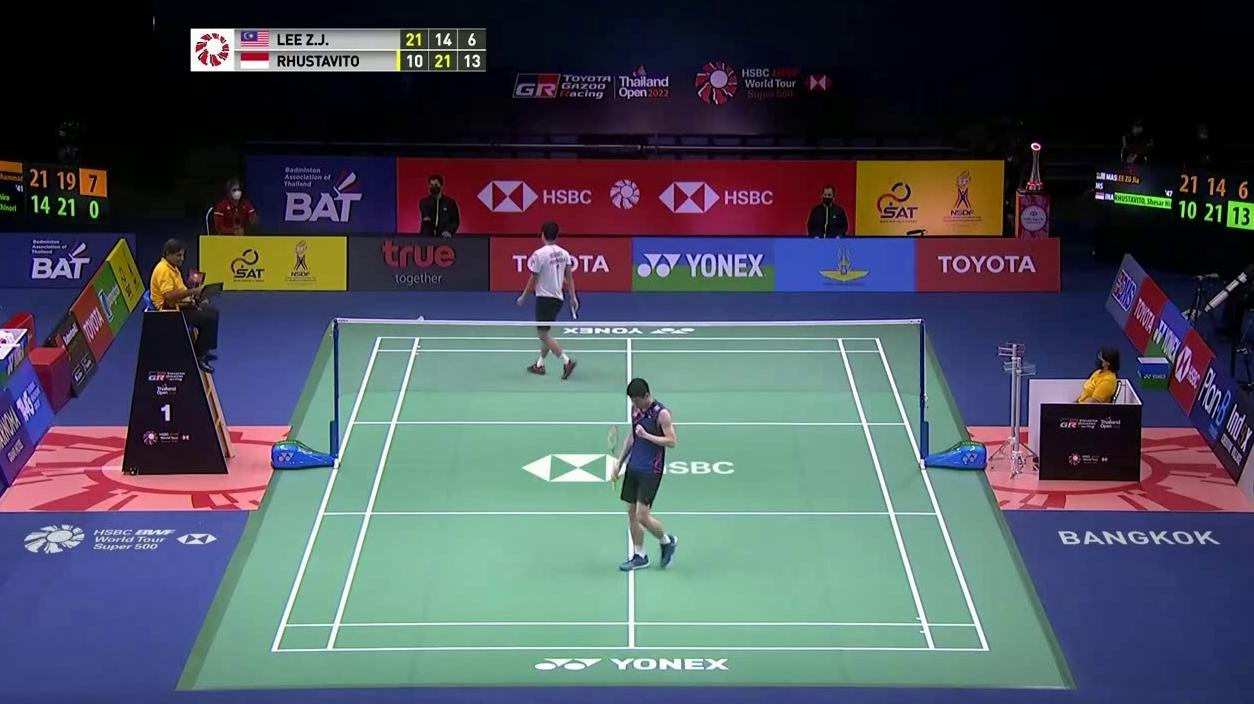racket: (606, 424, 622, 491), (569, 303, 580, 321)
shuttle: (418, 315, 425, 322)
